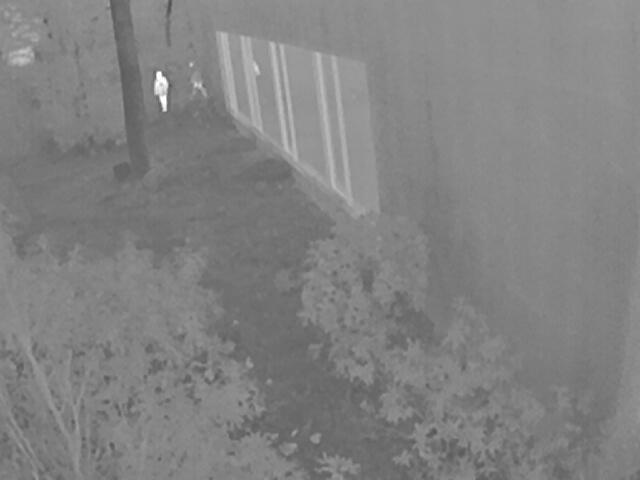person: (153, 70, 168, 109)
